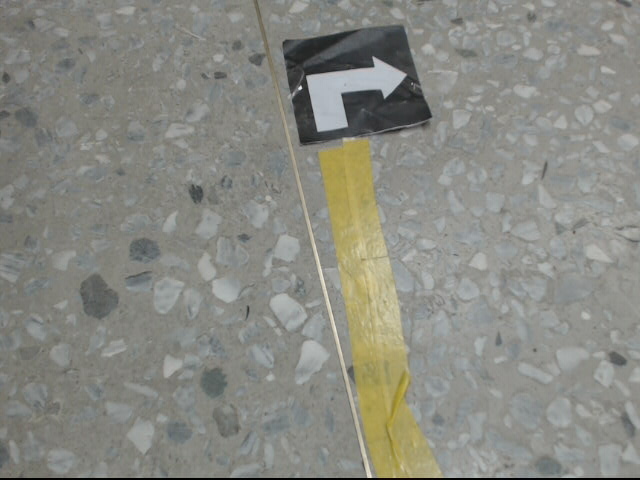right: (283, 24, 435, 143)
